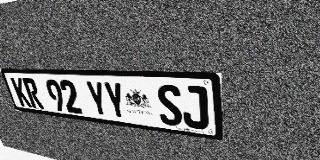2: (58, 80, 82, 114)
9: (44, 79, 68, 112)
J: (180, 85, 209, 130)
K: (10, 77, 32, 107)
R: (22, 78, 44, 109)
S: (156, 84, 183, 127)
Y: (102, 81, 128, 120), (84, 81, 110, 117)
